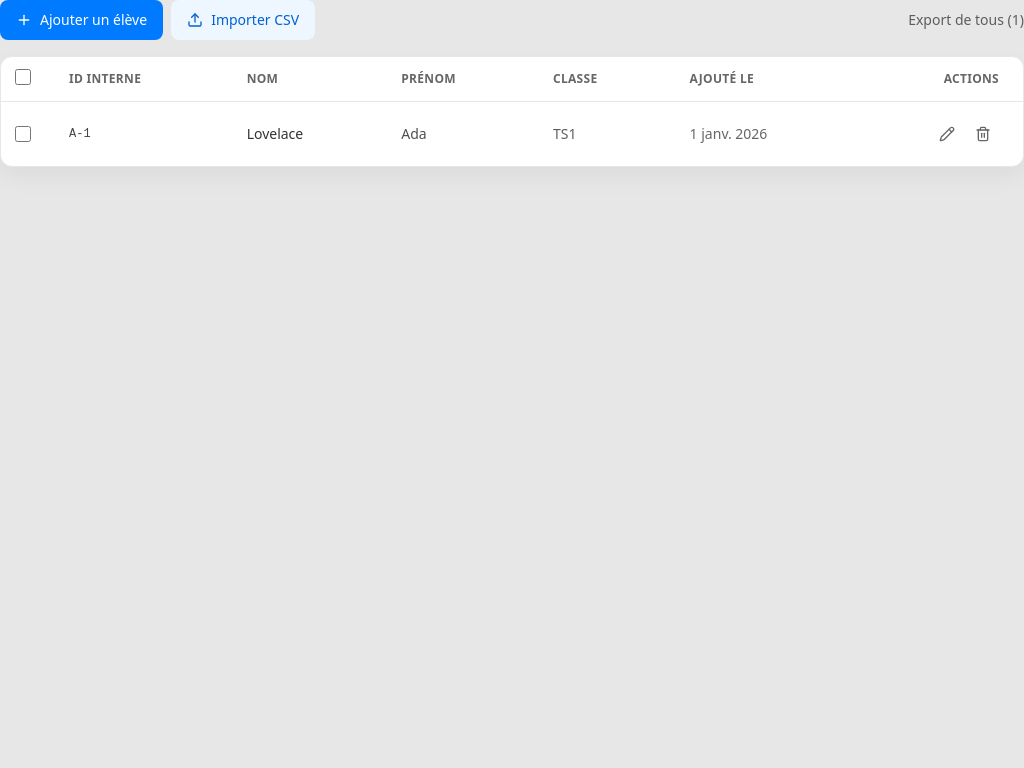
it: StudentsManager — actions › ajoute un élève puis recharge la liste
Click the button "Ajouter un élève" at x=82, y=20, box [0,0,163,40]
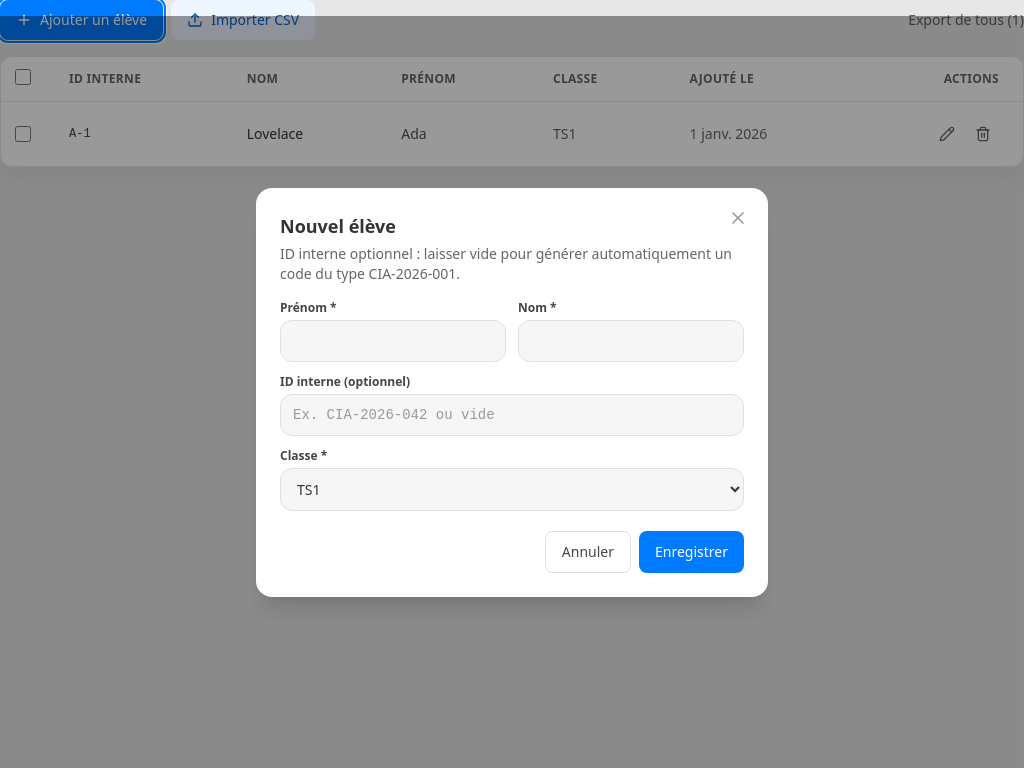
Type " Alan " into the field labelled "Prénom *" at x=393, y=340, box [280,320,506,362]
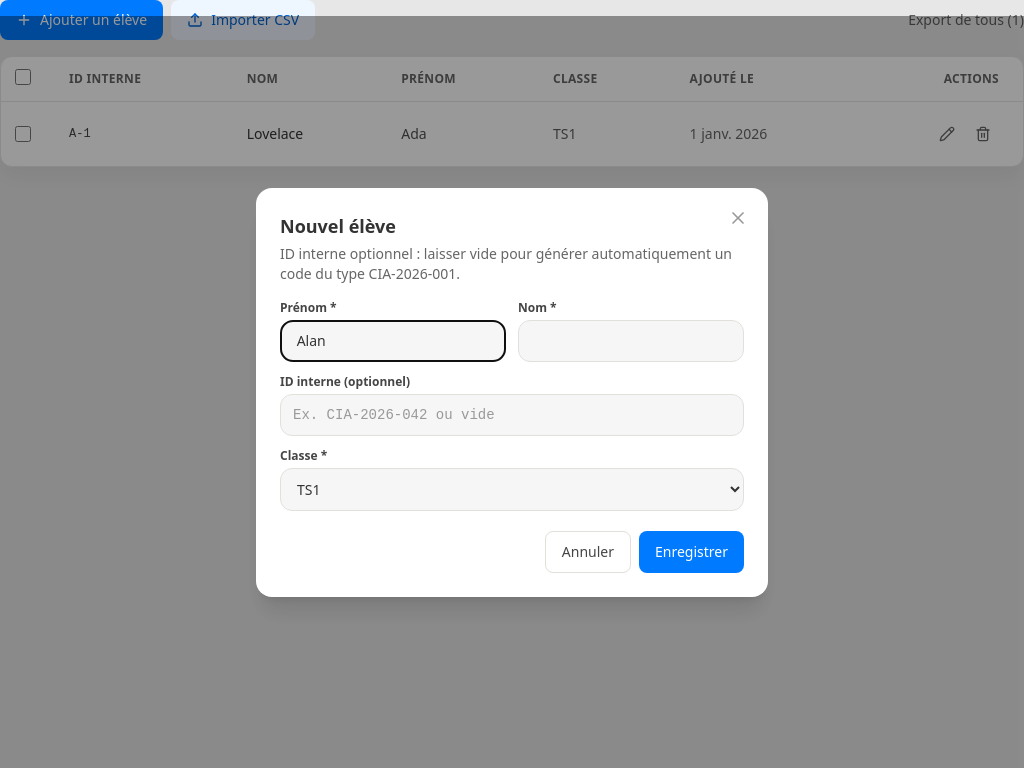
Type "Turing" into the field labelled "Nom *" at x=631, y=340, box [518,320,744,362]
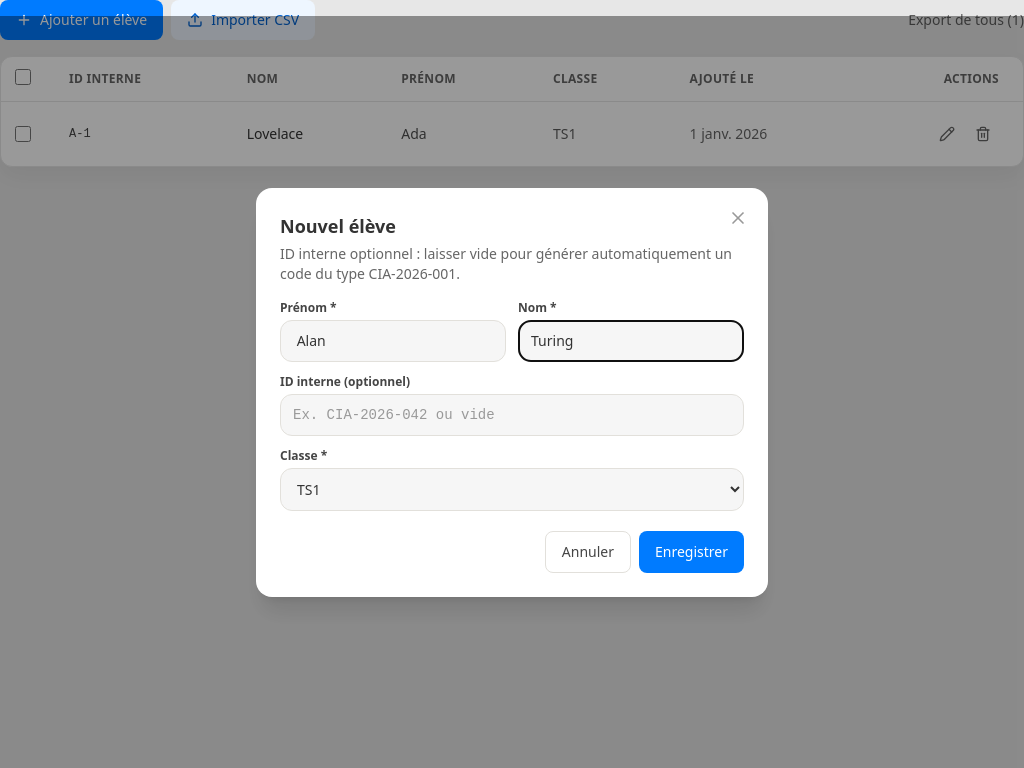
Click the button "Enregistrer" at x=692, y=552, box [639,530,744,572]
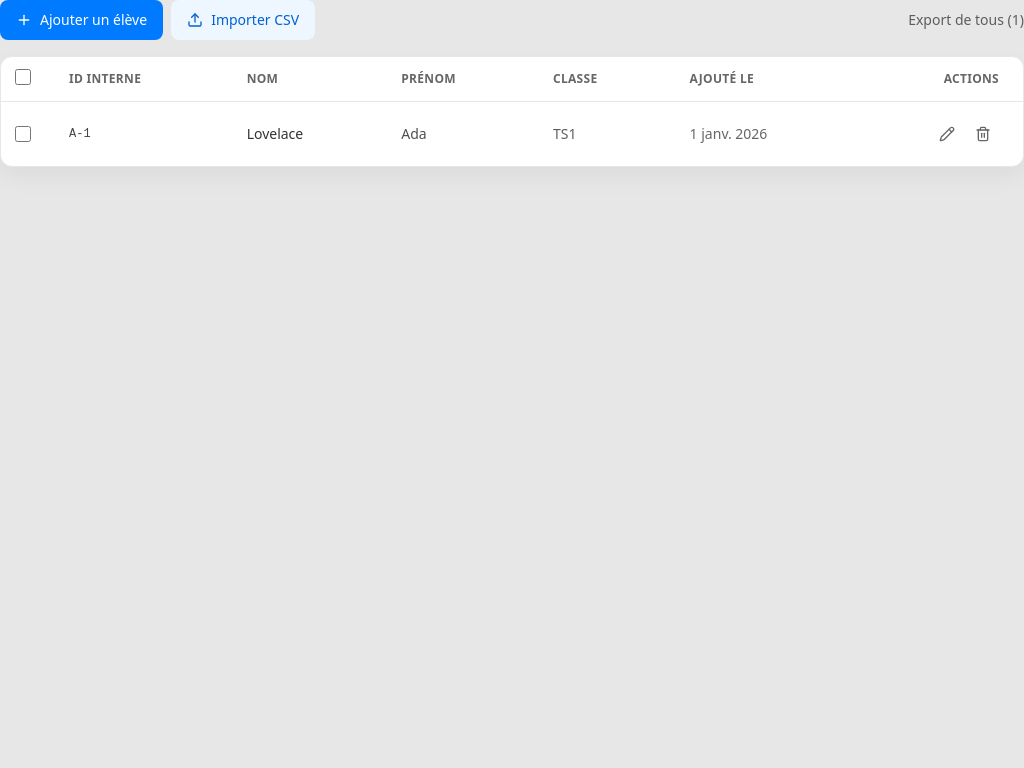
expect the dialog is gone: met
